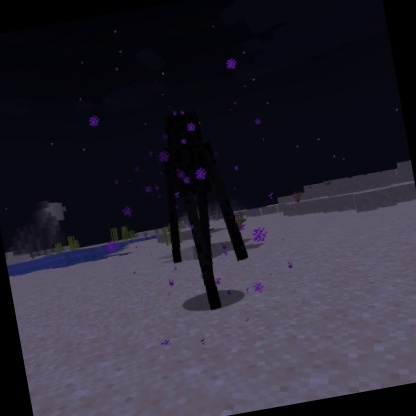enderman: (142, 100, 261, 320)
